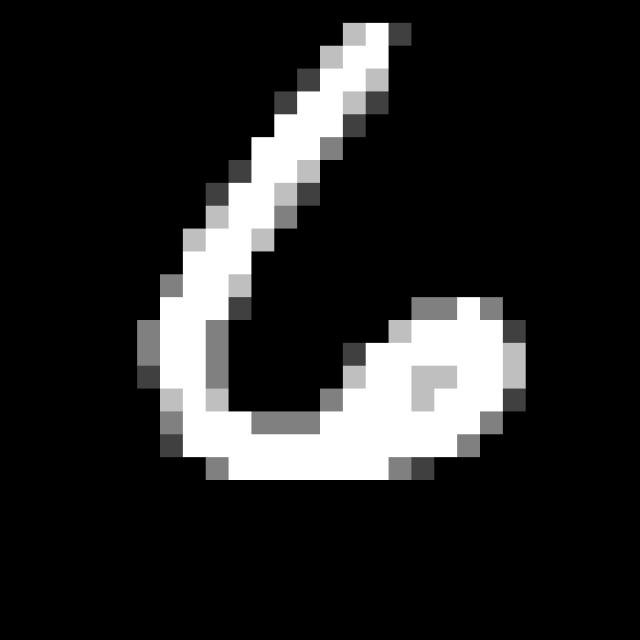six -6-: (139, 9, 536, 489)
